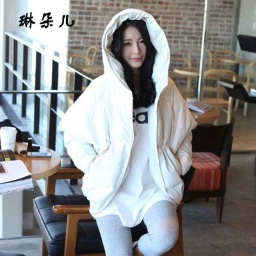face: (106, 17, 158, 82)
